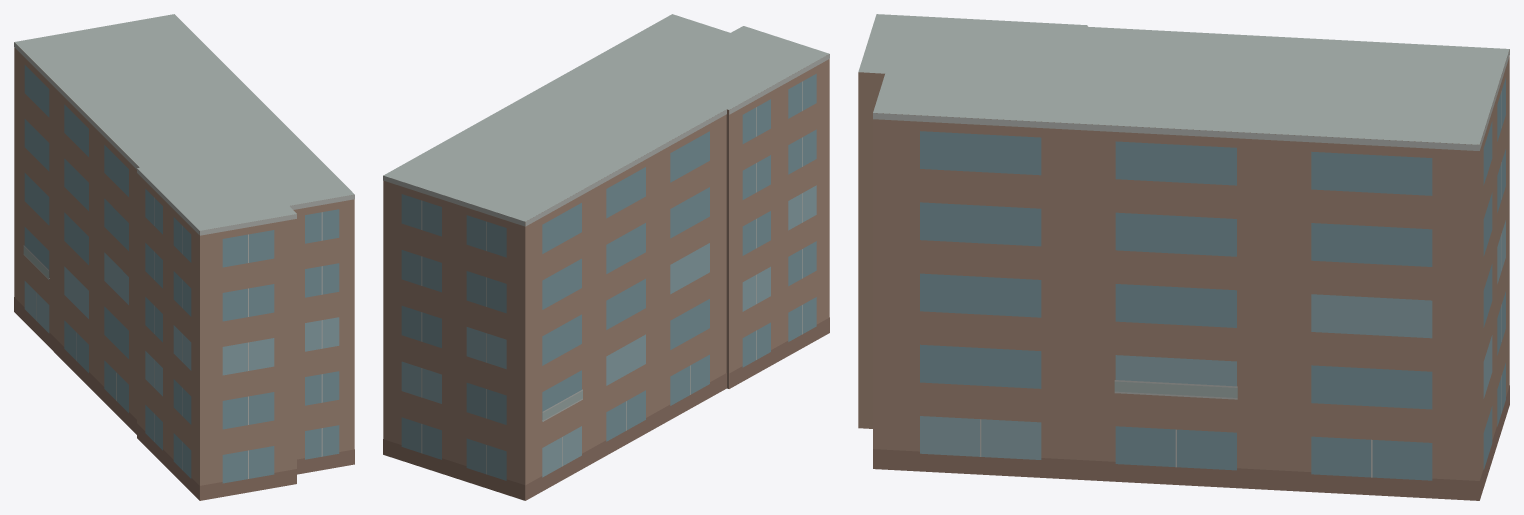
Rendered from survey-upis-32669818.glb.
The picture shows the model from 3 angles, left to right: view 1: azimuth 30°, elevation 25°; view 2: azimuth 150°, elevation 25°; view 3: azimuth 270°, elevation 25°; orthographic projection. The views are drawn at different scales.
Parts seen in each view (by area): view 1: survey-upis-32669818.tmp; view 2: survey-upis-32669818.tmp; view 3: survey-upis-32669818.tmp.
Part boxes in pixels (left/top/right/bottom): survey-upis-32669818.tmp: left=14, top=14, right=354, bottom=500; survey-upis-32669818.tmp: left=383, top=14, right=829, bottom=500; survey-upis-32669818.tmp: left=858, top=14, right=1509, bottom=500.
Size of the model in its own units: 10.84 by 13.75 by 22.81.
